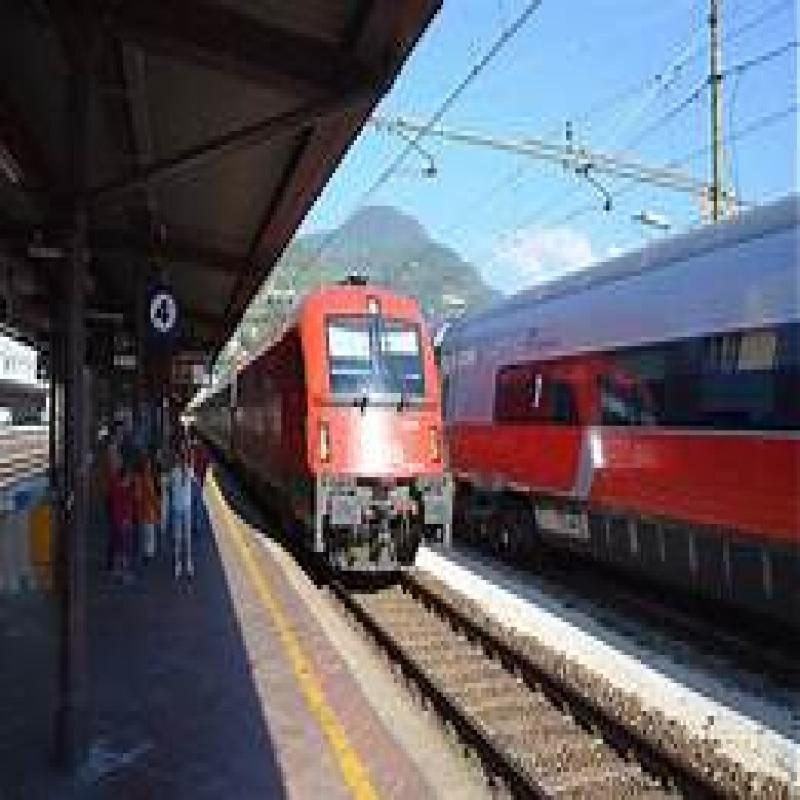train: (235, 315, 481, 591)
